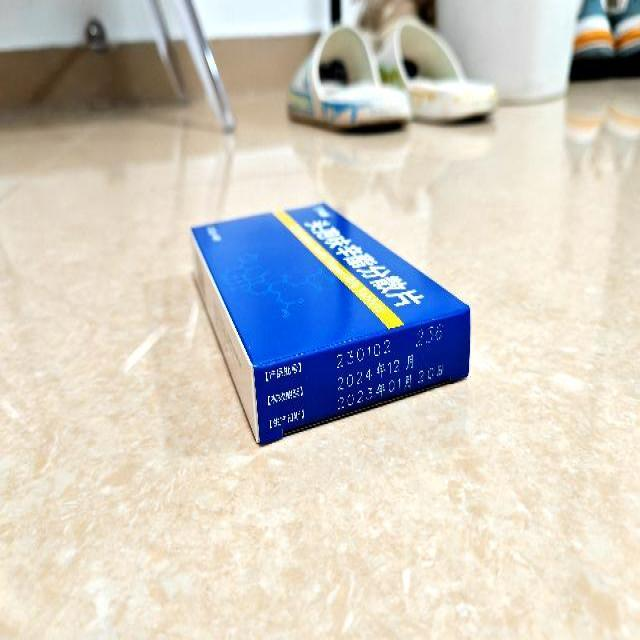box: (189, 201, 471, 447)
